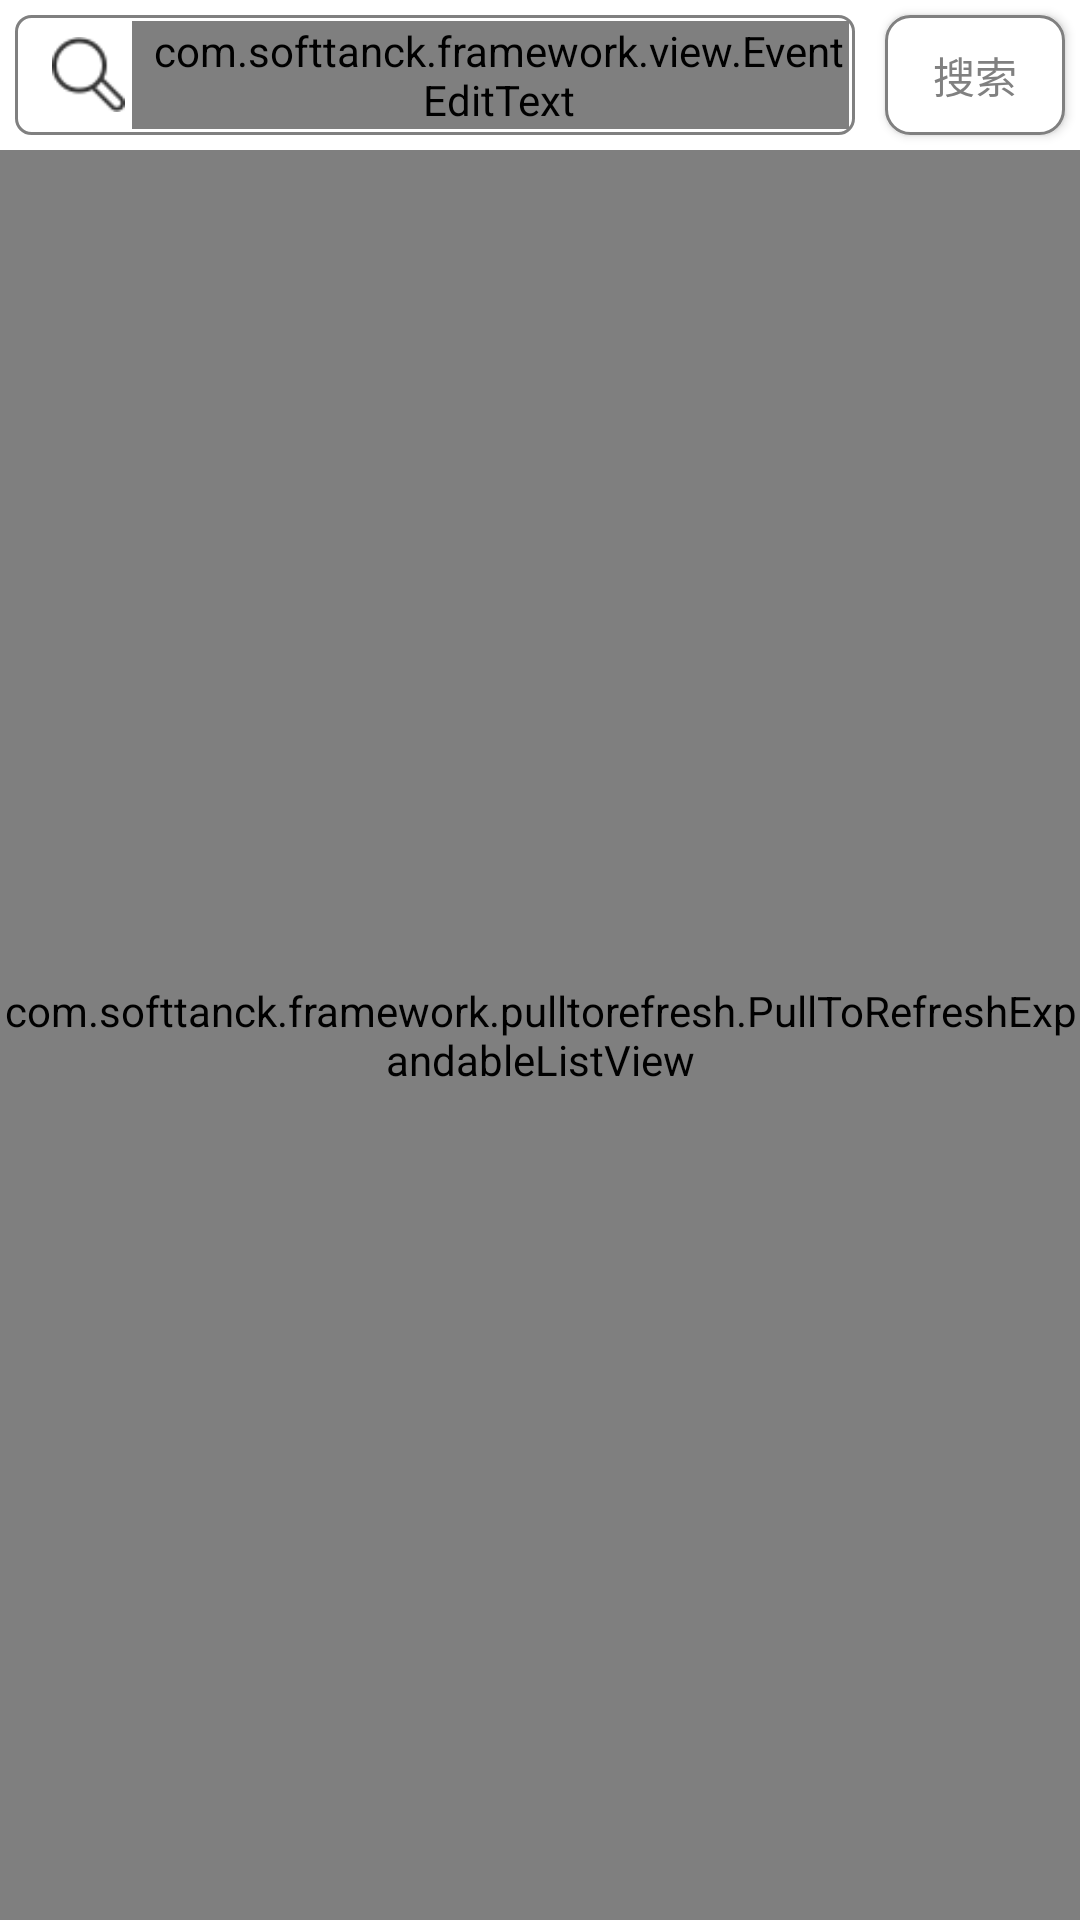

Named icons in this screenshot (1080 × 1920) and their centers, (x,y):
learn record search: (88,74)
